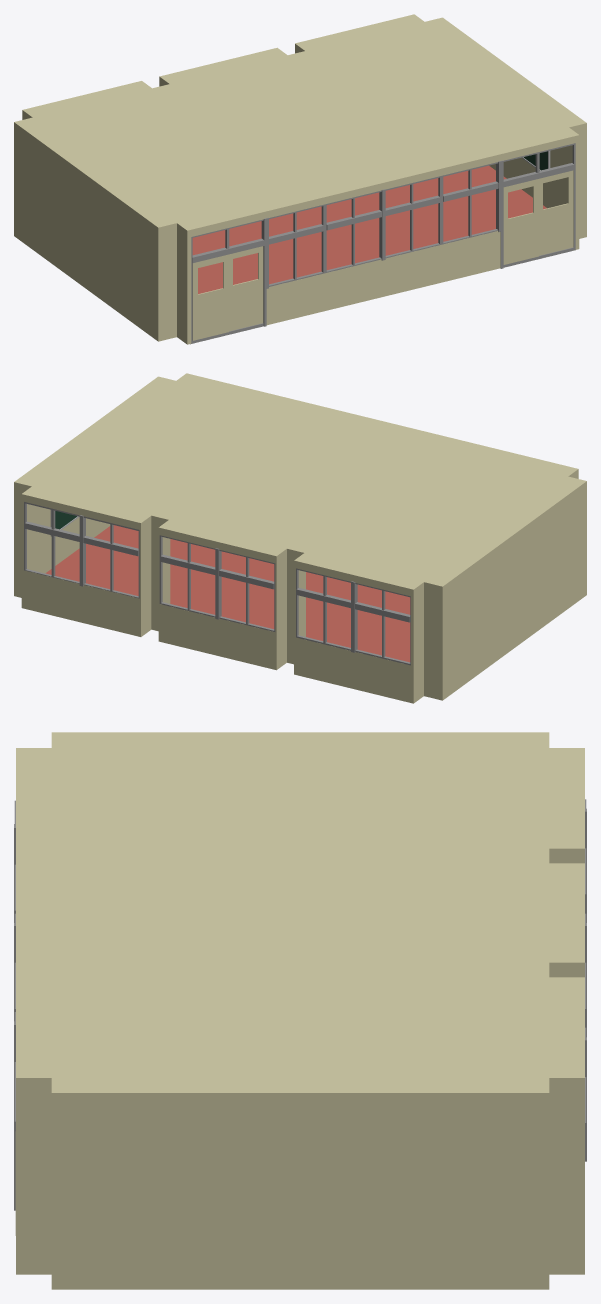
File: classroom.glb
3 views of the same model, one above another, from view 1: azimuth 30°, elevation 25°; view 2: azimuth 150°, elevation 25°; view 3: azimuth 270°, elevation 25° (orthographic). The views are drawn at different scales.
Visible parts, largest first — view 1: 教室.002, ドア.001, ドア, 窓.006, 窓.004, 窓.005; view 2: 教室.002, 窓.002, 窓.001, 窓.003; view 3: 教室.002.
Boxes of the visible parts, <box> form: 教室.002: <box>14,14,586,344</box>; ドア.001: <box>192,246,263,340</box>; ドア: <box>503,170,573,264</box>; 窓.006: <box>441,143,575,268</box>; 窓.004: <box>190,204,324,344</box>; 窓.005: <box>325,176,441,273</box>; 教室.002: <box>14,373,586,703</box>; 窓.002: <box>159,535,275,631</box>; 窓.001: <box>24,502,139,598</box>; 窓.003: <box>296,568,410,665</box>; 教室.002: <box>16,732,584,1289</box>.
Size of the model in its own units: 12.12 by 3.09 by 8.14.
